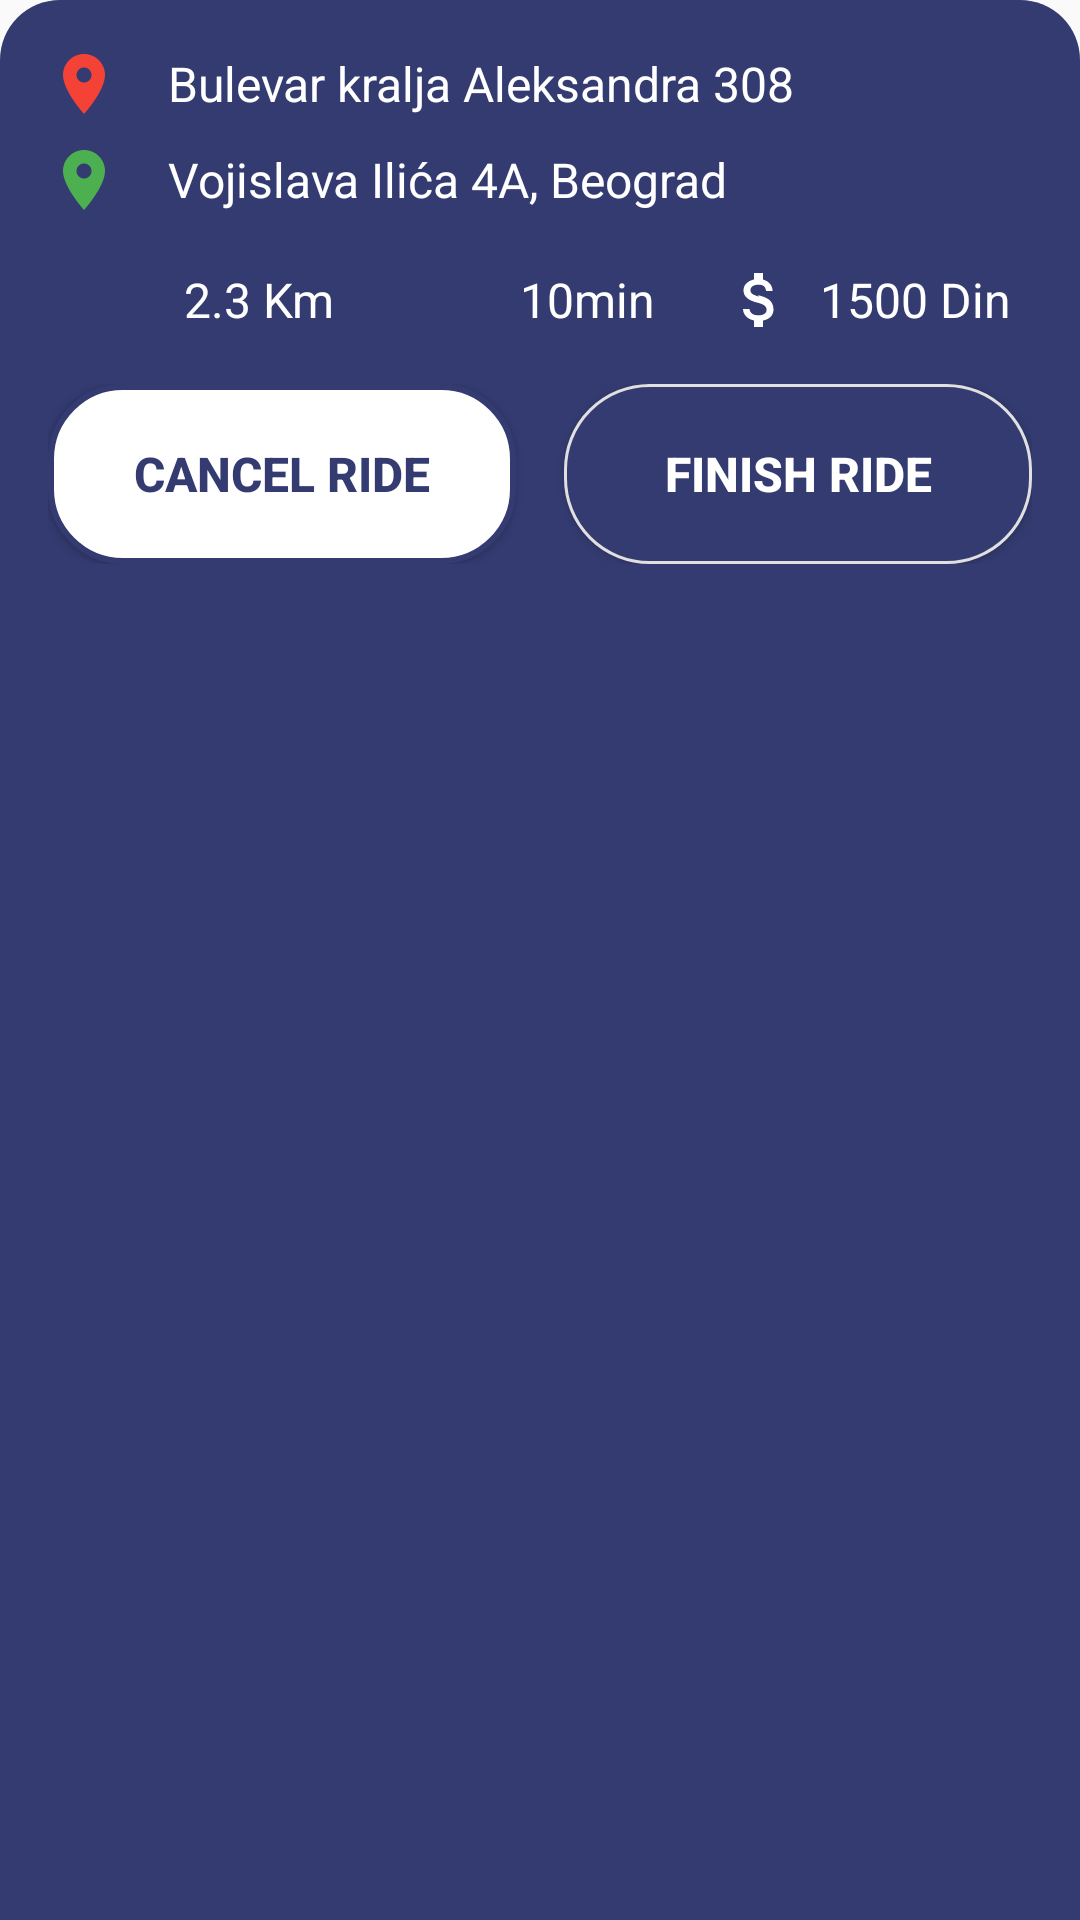

Icons on this 1080w x 1920h Android screen, each with its box as bbox=[x1, y1, x2, y2]:
location: bbox=[63, 54, 105, 114], bbox=[63, 150, 105, 210]
price: bbox=[743, 273, 774, 327]
